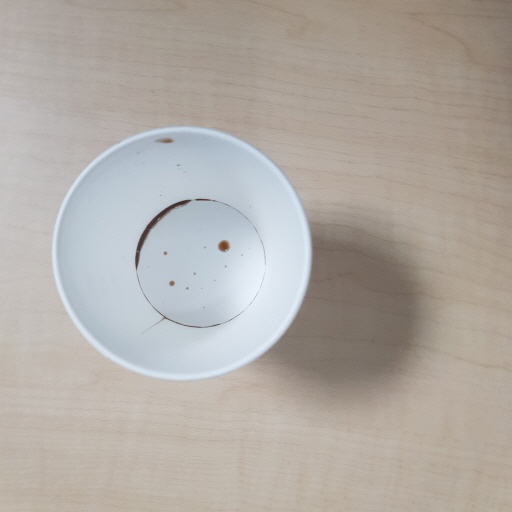Paper_1: (49, 129, 317, 377)
